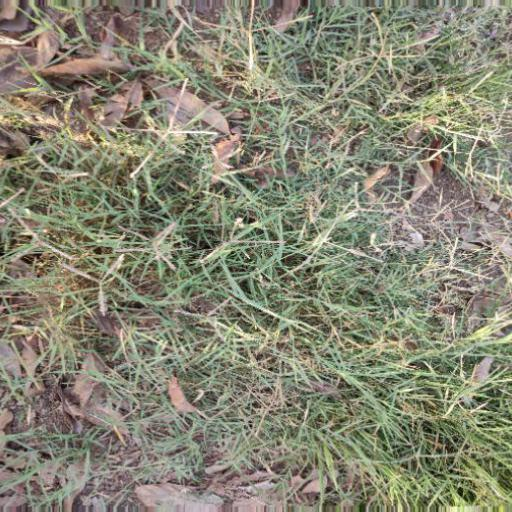weed: (8, 1, 493, 475)
